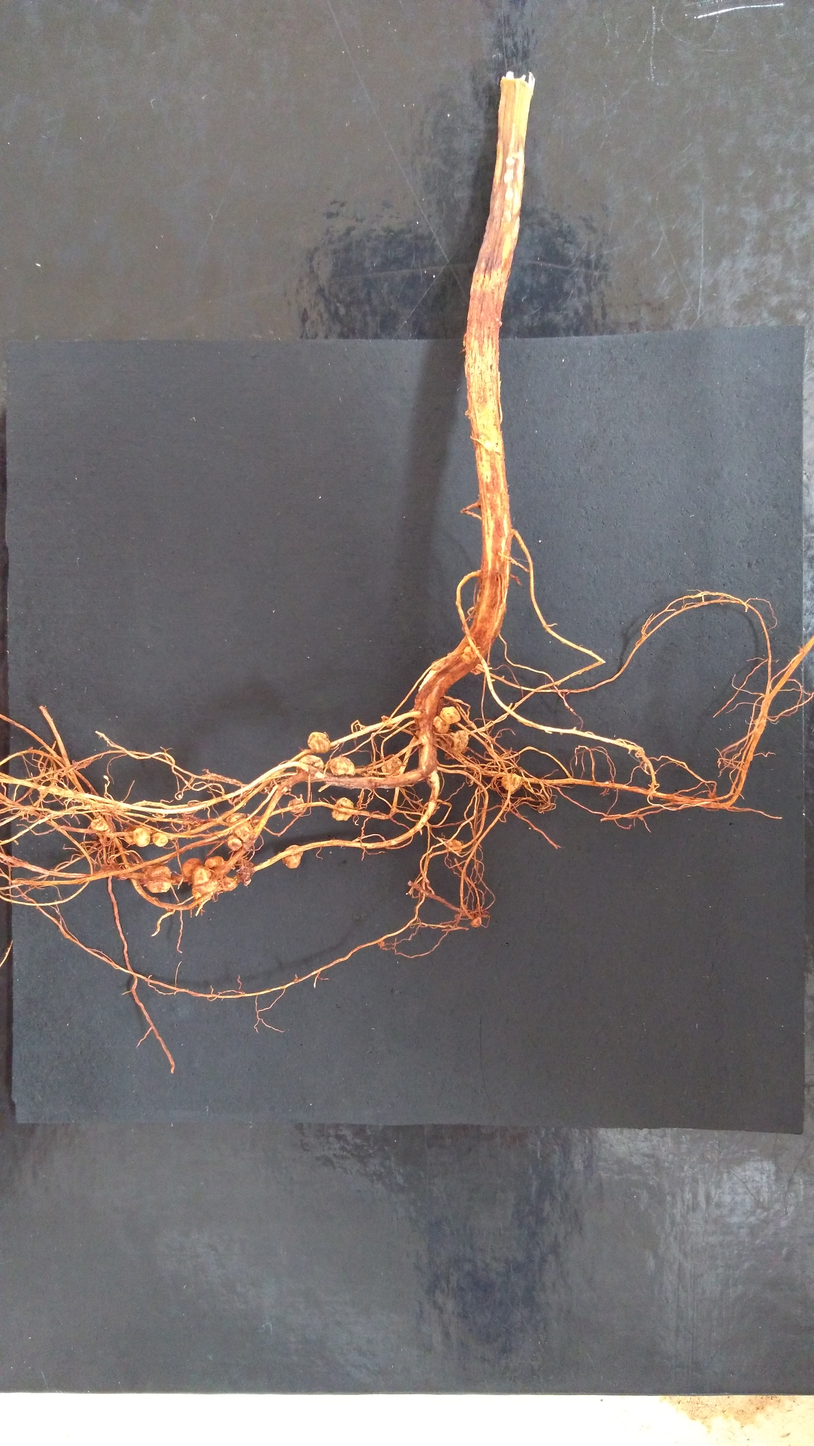nodule: (143, 863, 172, 893), (296, 754, 324, 783), (439, 729, 469, 754), (326, 755, 356, 778), (191, 879, 220, 900), (331, 796, 355, 821), (307, 731, 331, 754), (204, 856, 227, 880), (282, 844, 303, 869), (380, 757, 404, 778), (237, 857, 256, 883), (226, 812, 261, 826), (233, 821, 254, 844), (181, 857, 203, 878), (191, 865, 212, 887), (132, 826, 151, 848), (500, 773, 523, 791), (439, 706, 461, 724), (460, 645, 480, 664), (432, 715, 450, 734), (444, 838, 463, 854), (219, 876, 239, 891), (90, 816, 110, 831), (124, 824, 139, 843), (288, 797, 305, 813), (226, 833, 242, 850), (151, 832, 169, 847), (275, 779, 293, 793), (470, 664, 484, 676), (431, 659, 445, 671), (471, 916, 482, 928), (444, 752, 454, 761), (377, 940, 385, 948), (91, 832, 100, 839), (707, 792, 714, 799), (447, 652, 453, 658), (463, 903, 468, 910), (177, 794, 184, 799), (466, 755, 471, 760)
